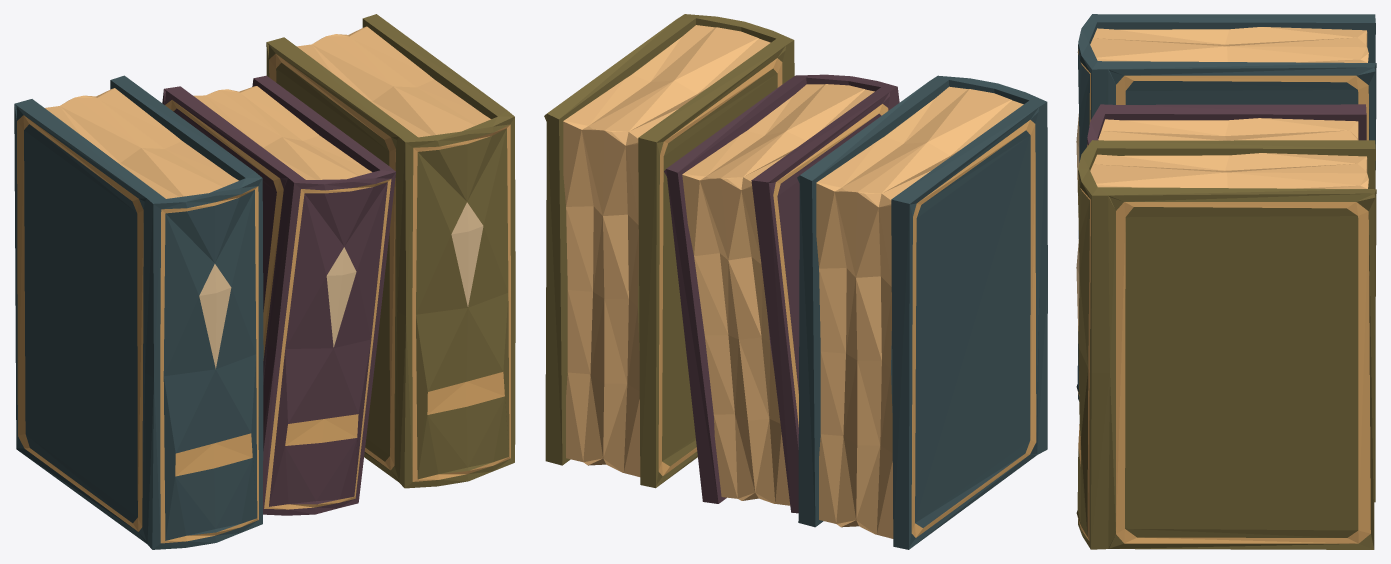
Rendered from Books_002.fbx.
3 views of the same model, side by side, from view 1: azimuth 30°, elevation 25°; view 2: azimuth 150°, elevation 25°; view 3: azimuth 270°, elevation 25° (orthographic). The views are drawn at different scales.
Visible parts, largest first — view 1: Books_002; view 2: Books_002; view 3: Books_002.
Part boxes in pixels (x1,y1,x2,y2): Books_002: (14,14,515,549); Books_002: (544,14,1047,549); Books_002: (1076,14,1376,549).
Size of the model in its own units: 0.3458 by 0.3205 by 0.2403.
